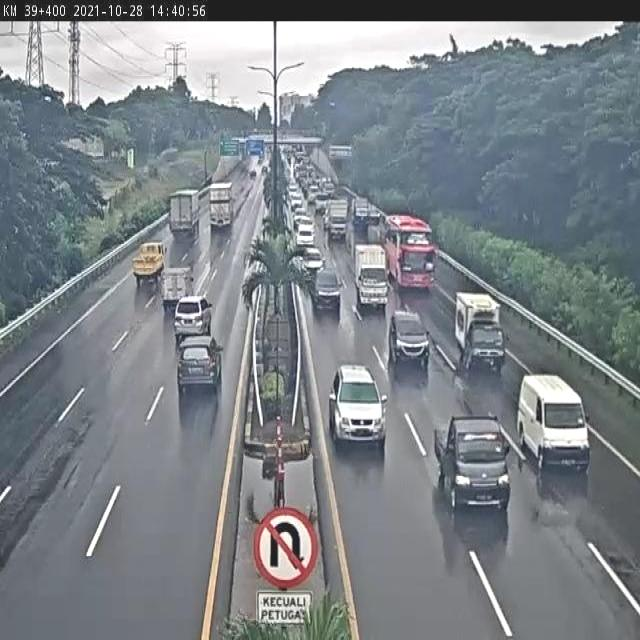Bus: (385, 211, 437, 287)
Car: (433, 412, 512, 512), (329, 364, 387, 450), (173, 327, 224, 396), (388, 309, 432, 381), (170, 290, 211, 340), (306, 266, 342, 317), (301, 246, 324, 275)
Truck: (450, 289, 508, 377), (350, 242, 390, 308), (169, 185, 206, 239), (204, 172, 237, 232), (131, 241, 165, 285), (324, 196, 348, 247)
Van: (517, 374, 589, 469)
